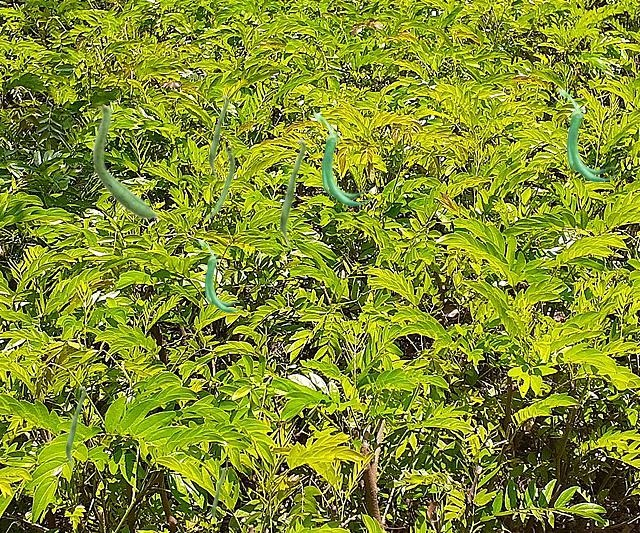french_bean: (92, 103, 158, 218), (313, 112, 370, 205), (558, 88, 615, 181), (198, 239, 242, 311), (279, 139, 305, 248), (203, 146, 233, 218), (208, 95, 228, 178), (65, 386, 85, 469), (211, 468, 224, 524)
